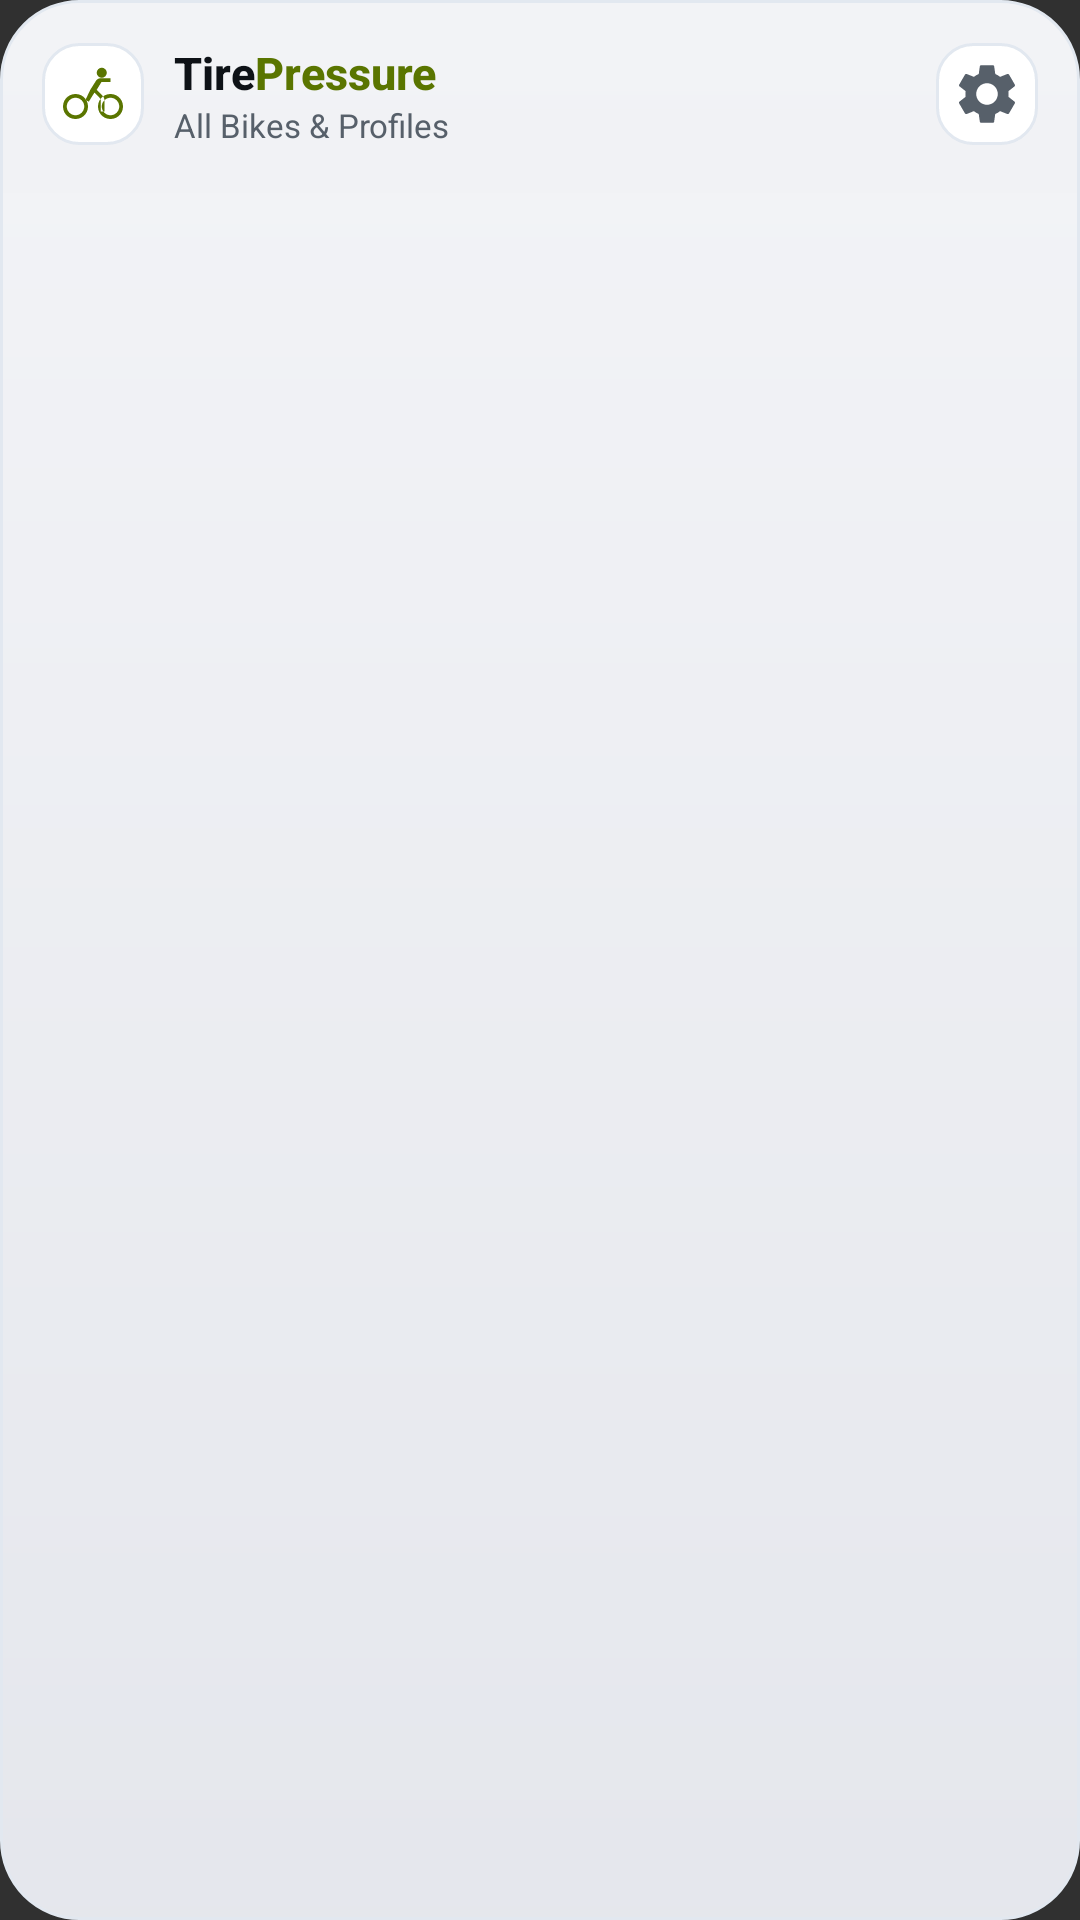

Icons on this 1080x1920 Android screen, each with its box as [x1, y1, x2, y2]:
Configure Widget: [959, 65, 1015, 123]
widget bike: [42, 43, 144, 145]
